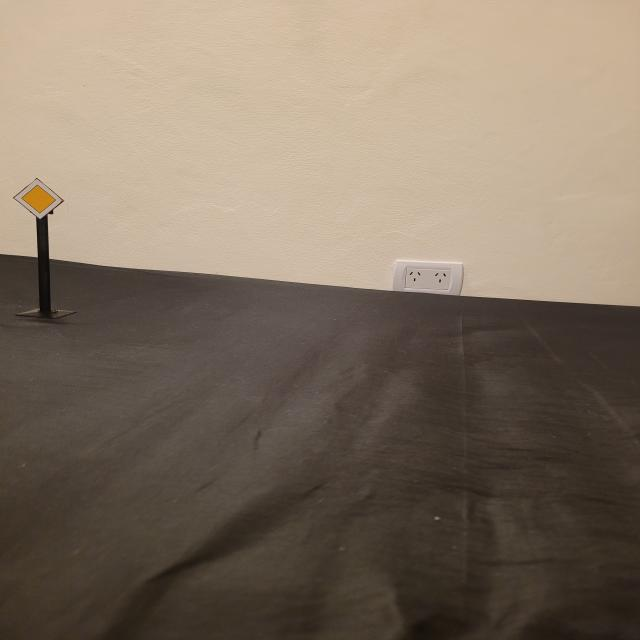priority: (12, 177, 65, 220)
